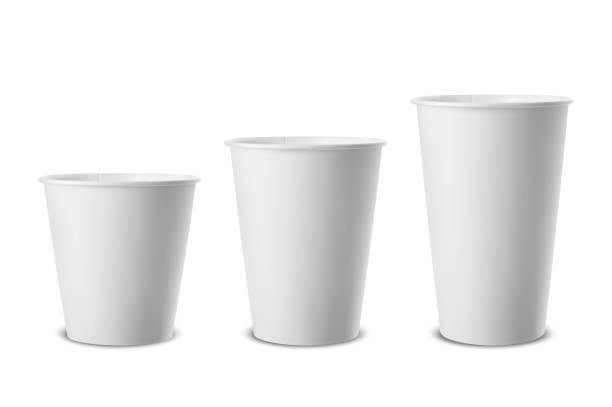plastic_bottle: (406, 88, 592, 362), (220, 129, 391, 350), (30, 164, 206, 350)
